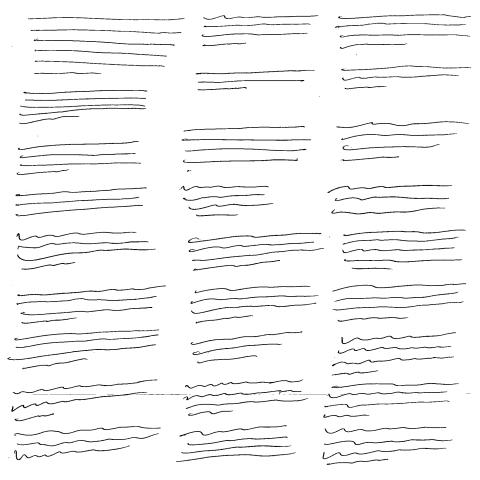Paragraph: (27, 18, 186, 75), (10, 379, 159, 422), (8, 330, 161, 371), (15, 285, 167, 326), (329, 332, 459, 377), (320, 426, 455, 468), (337, 121, 475, 162), (332, 283, 470, 324), (16, 231, 157, 271), (188, 232, 325, 273), (342, 229, 468, 272), (14, 426, 164, 462), (189, 285, 318, 326), (323, 383, 465, 420), (336, 14, 472, 51), (182, 125, 311, 164), (15, 140, 144, 178), (19, 90, 149, 127), (176, 426, 295, 465), (185, 380, 307, 417), (14, 187, 149, 219), (328, 183, 454, 217), (201, 14, 318, 48), (189, 331, 304, 365), (340, 66, 474, 91), (182, 185, 275, 217), (195, 69, 315, 92)
